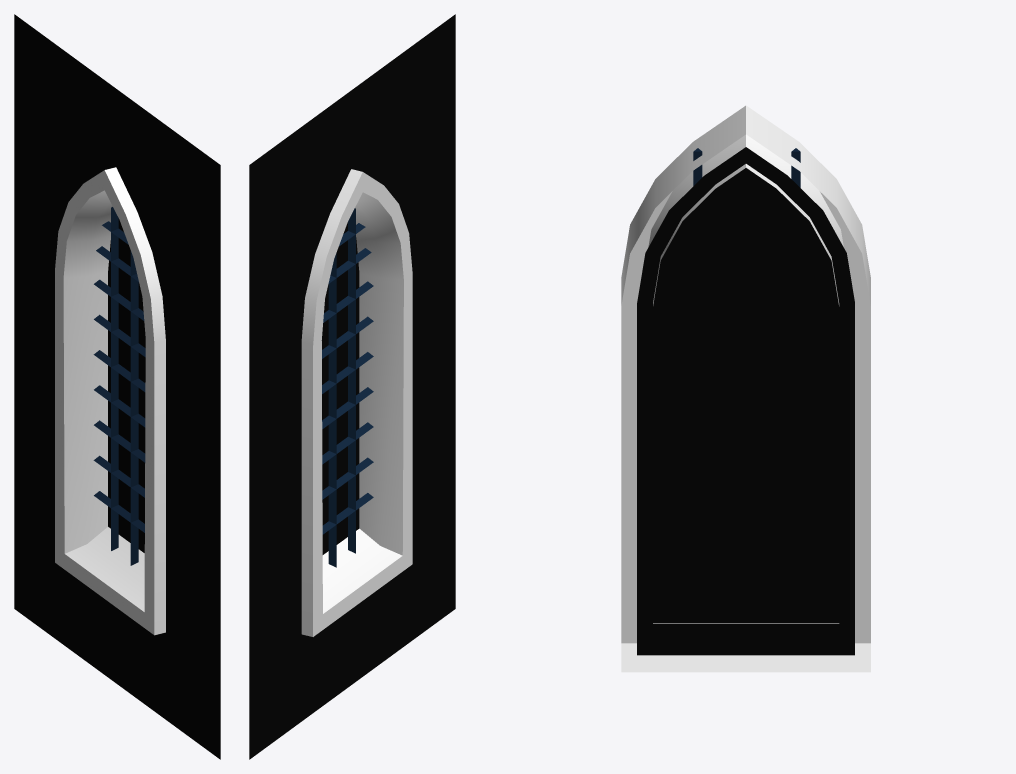
Rendered from standard_window_22.FBX.
The picture shows the model from 3 angles, left to right: view 1: azimuth 30°, elevation 25°; view 2: azimuth 150°, elevation 25°; view 3: azimuth 270°, elevation 25°; orthographic projection. The views are drawn at different scales.
Parts seen in each view (by area): view 1: standard_window_22; view 2: standard_window_22; view 3: standard_window_22.
Boxes of the visible parts, bbox=[...] form: standard_window_22: bbox=[14, 14, 220, 759]; standard_window_22: bbox=[249, 14, 455, 759]; standard_window_22: bbox=[621, 105, 870, 672].
Bounding box in the file's own units: 29.43 × 353 × 222.
